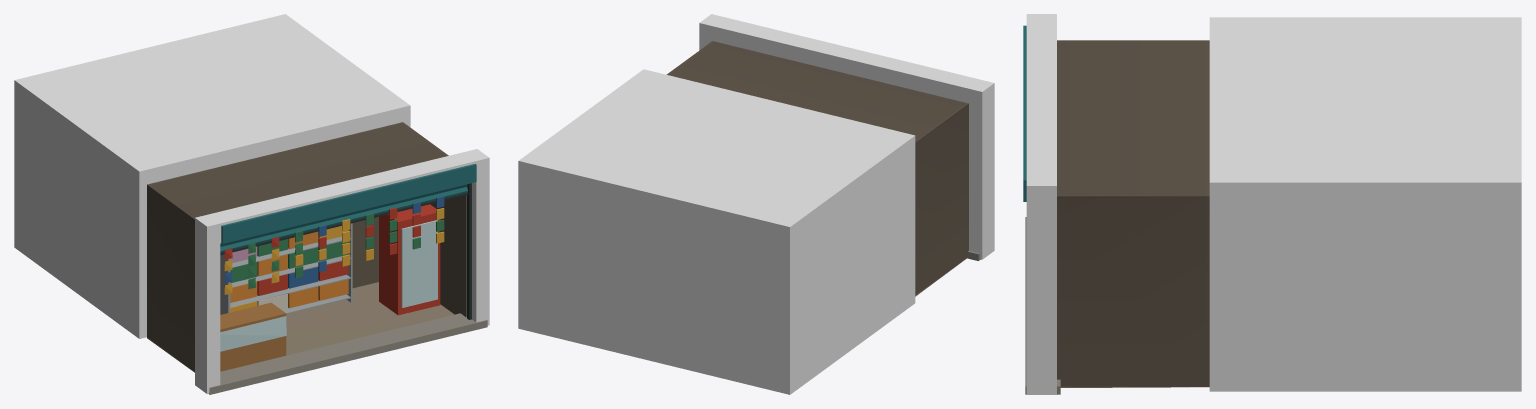
Rendered from tret_tap_hoa_60.glb.
3 views of the same model, side by side, from view 1: azimuth 30°, elevation 25°; view 2: azimuth 150°, elevation 25°; view 3: azimuth 270°, elevation 25° (orthographic). The views are drawn at different scales.
Parts seen in each view (by area): view 1: tret_tap_hoa_60; view 2: tret_tap_hoa_60; view 3: tret_tap_hoa_60.
Part boxes in pixels (bbox=[...]): tret_tap_hoa_60: bbox=[14, 14, 489, 394]; tret_tap_hoa_60: bbox=[518, 14, 994, 394]; tret_tap_hoa_60: bbox=[1023, 14, 1521, 394].
Bounding box in the file's own units: 6 × 3.42 × 7.35.
